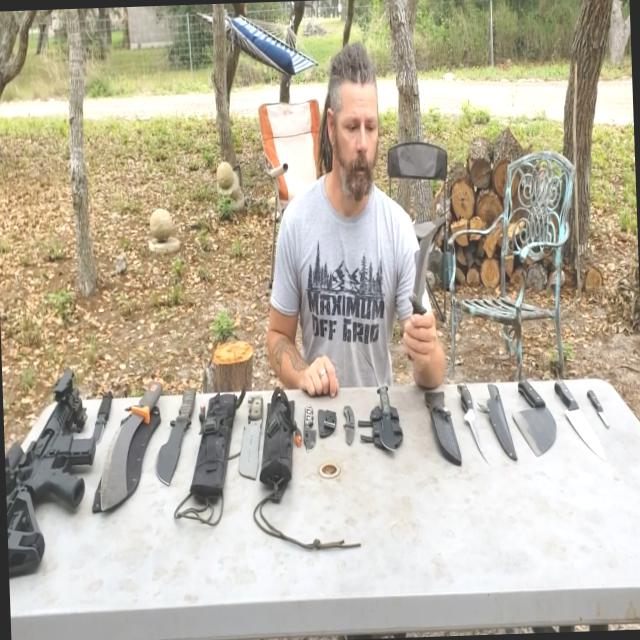knife: (92, 370, 172, 526), (387, 209, 441, 363), (148, 376, 202, 492), (553, 371, 604, 466), (508, 373, 561, 464), (236, 386, 274, 492), (451, 375, 490, 462), (298, 389, 333, 468), (371, 375, 399, 457), (582, 370, 615, 429), (96, 372, 124, 438), (341, 402, 362, 456)
long weapon: (1, 356, 111, 594)
